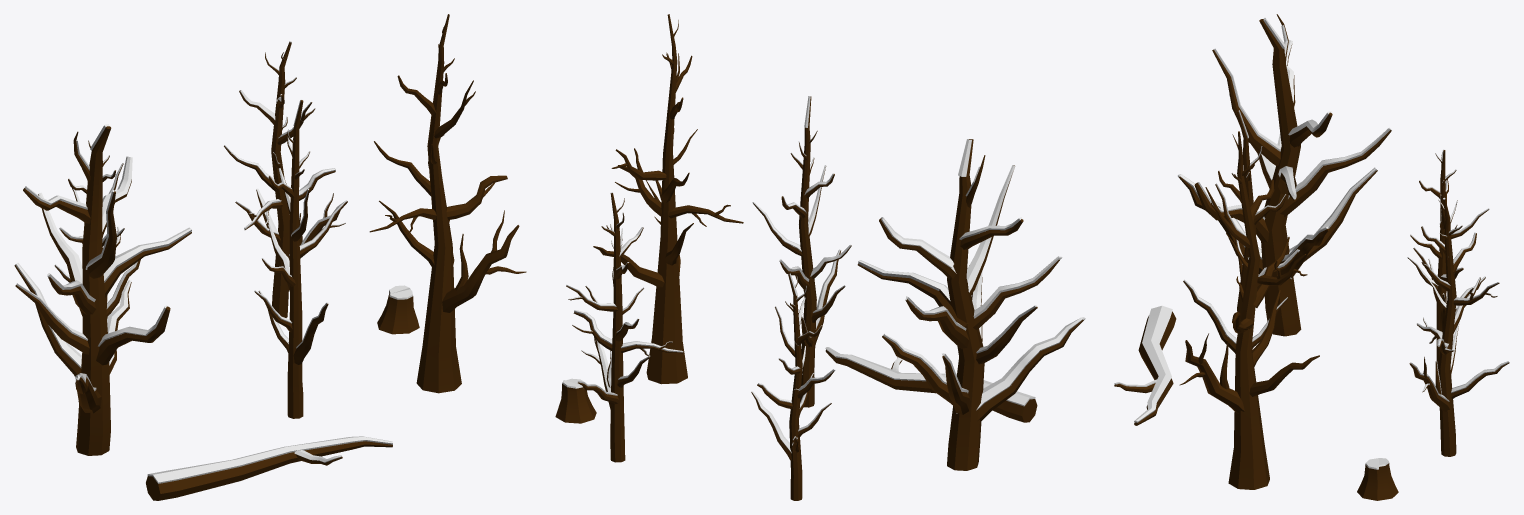
Rendered from Dead Trees With Snow.glb.
3 renders of one model, left to right at view 1: azimuth 30°, elevation 25°; view 2: azimuth 150°, elevation 25°; view 3: azimuth 270°, elevation 25°, orthographic. The views are drawn at different scales.
Visible parts, largest first — view 1: Dead_tree_1, Father_tree, polySurface70, Dead_tree_3, Dead_branch, Tree_stump, Dead_tree_2; view 2: Dead_tree_1, Father_tree, Dead_tree_3, polySurface70, Dead_tree_2, Dead_branch, Tree_stump; view 3: Dead_tree_1, Father_tree, Dead_tree_3, Dead_branch, polySurface70, Dead_tree_2, Tree_stump.
Part boxes in pixels (bbox=[...]): Dead_tree_1: bbox=[14, 124, 191, 455]; Father_tree: bbox=[369, 14, 526, 393]; polySurface70: bbox=[254, 99, 347, 418]; Dead_tree_3: bbox=[224, 41, 347, 317]; Dead_branch: bbox=[146, 436, 392, 500]; Tree_stump: bbox=[377, 285, 419, 334]; Dead_tree_2: bbox=[54, 140, 140, 318]; Dead_tree_1: bbox=[857, 139, 1085, 470]; Father_tree: bbox=[593, 14, 743, 384]; Dead_tree_3: bbox=[566, 192, 683, 462]; polySurface70: bbox=[752, 96, 851, 407]; Dead_tree_2: bbox=[751, 273, 835, 500]; Dead_branch: bbox=[825, 347, 1037, 422]; Tree_stump: bbox=[555, 378, 596, 423]; Dead_tree_1: bbox=[1178, 14, 1391, 336]; Father_tree: bbox=[1179, 131, 1319, 489]; Dead_tree_3: bbox=[1409, 197, 1509, 456]; Dead_branch: bbox=[1114, 305, 1176, 425]; polySurface70: bbox=[1183, 110, 1299, 353]; Dead_tree_2: bbox=[1407, 149, 1489, 368]; Tree_stump: bbox=[1357, 458, 1398, 500].
Bounding box in the file's own units: 0.1921 × 0.1478 × 0.15.
